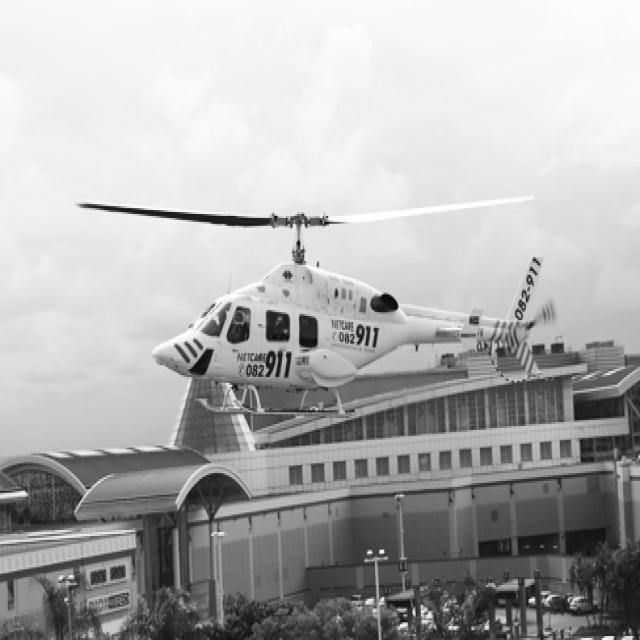helicopter: (80, 172, 568, 431)
